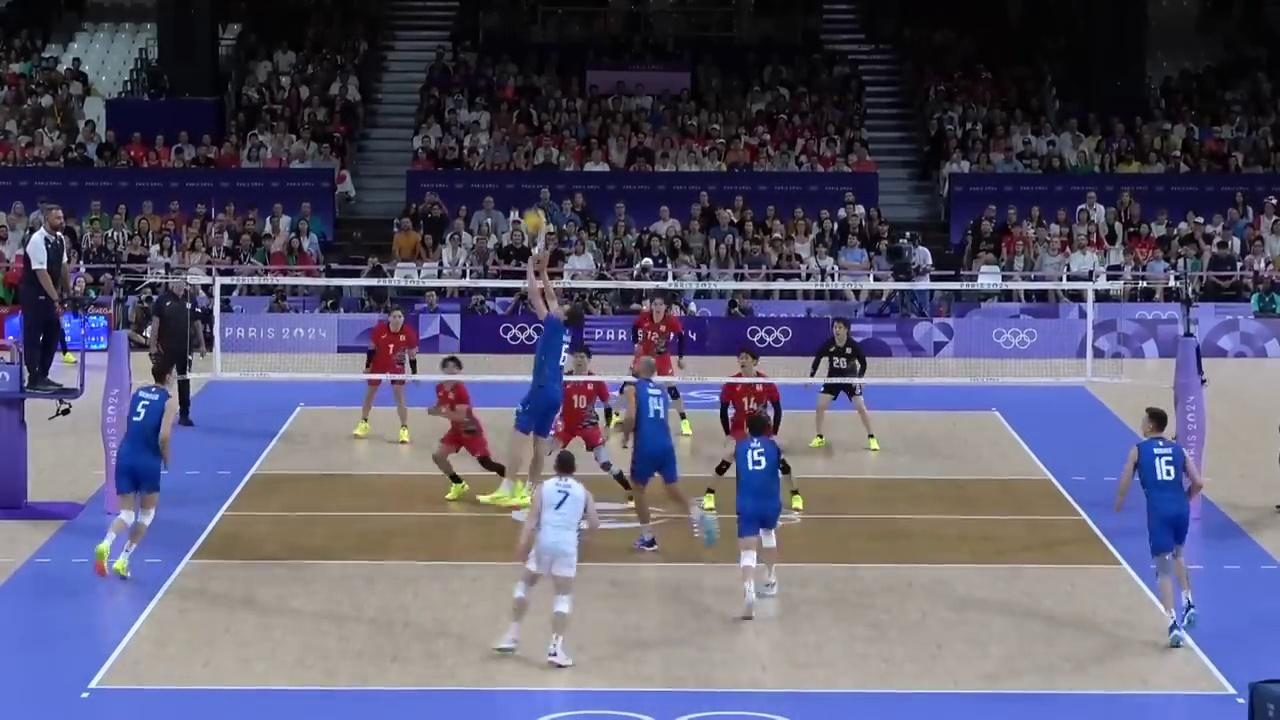ball: (525, 208, 547, 235)
